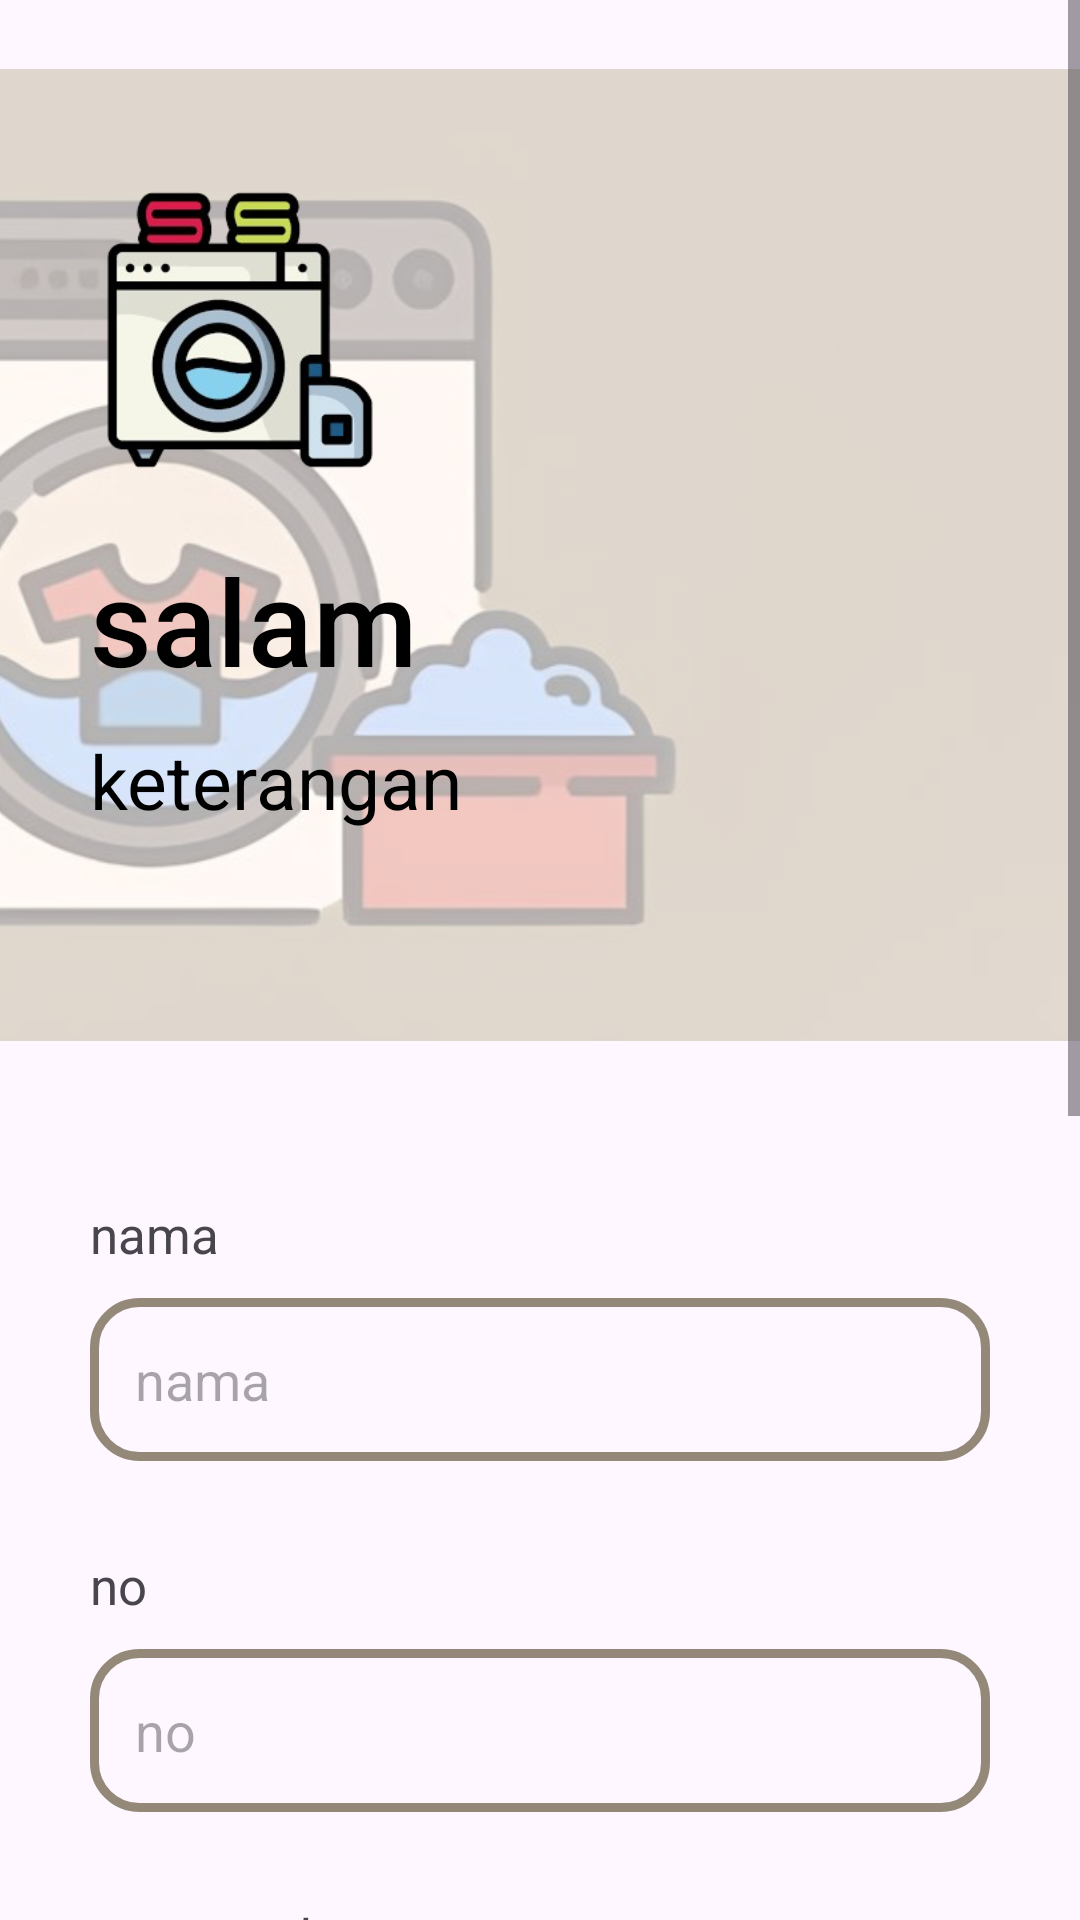

Named icons in this screenshot (1080px x 1920px) and their centers, (x,y):
layanan: (240,330)
